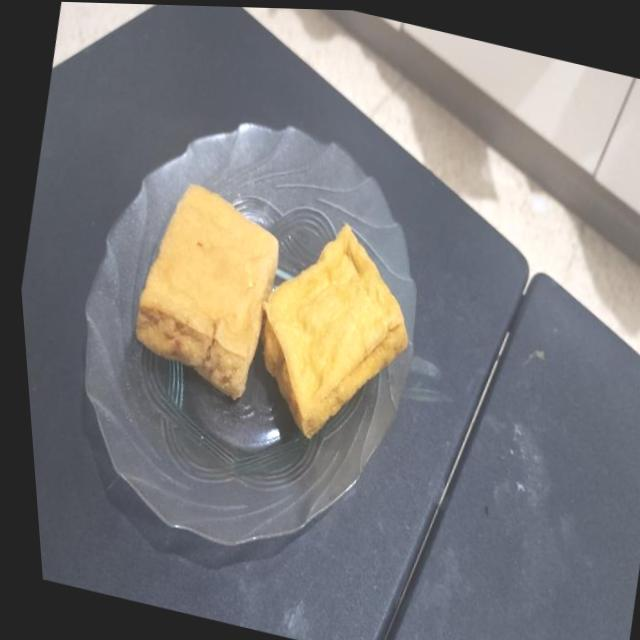tahu_goreng: (262, 224, 407, 437), (136, 184, 278, 398)
